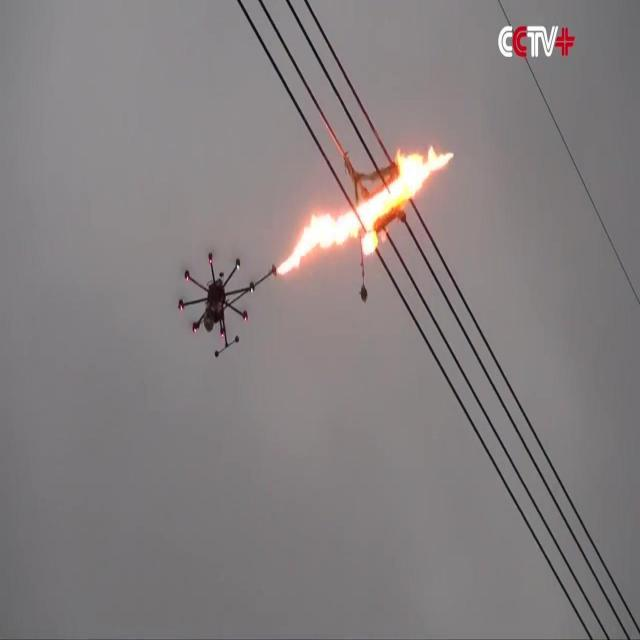UAV: (178, 252, 276, 358)
